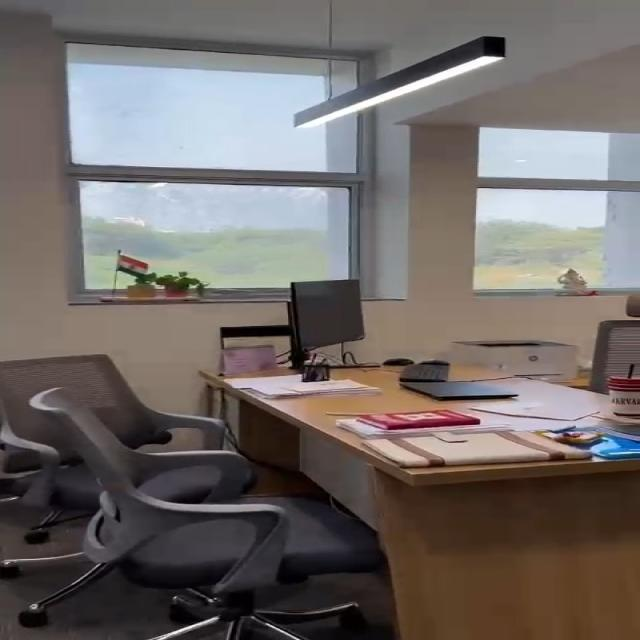furniture: (339, 358, 640, 640), (5, 405, 363, 640), (0, 355, 202, 548), (240, 277, 404, 374), (571, 293, 640, 386)
wall: (0, 0, 640, 276)
